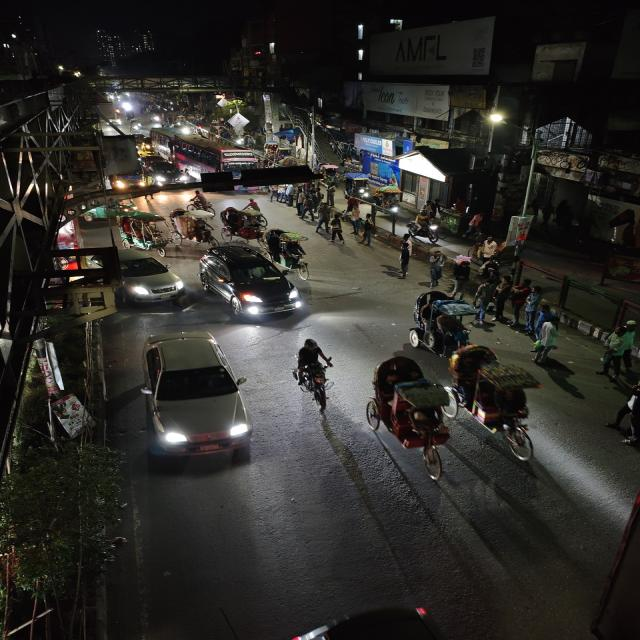bicycle: (185, 189, 216, 215)
bus: (172, 134, 258, 178)
car: (135, 328, 254, 467), (196, 243, 307, 323), (110, 248, 186, 310), (143, 156, 190, 190)
cng: (112, 196, 140, 216)
motorcycle: (287, 336, 338, 414)
pedestrian: (605, 381, 640, 451), (529, 320, 566, 364), (510, 282, 544, 328), (601, 328, 629, 378), (449, 258, 476, 300), (474, 241, 502, 281), (472, 278, 496, 324), (492, 278, 516, 324), (469, 235, 502, 265), (598, 347, 625, 381), (554, 197, 577, 236), (395, 238, 416, 278), (618, 331, 638, 370), (426, 253, 446, 288), (478, 258, 502, 286), (360, 214, 379, 247), (328, 214, 347, 244), (347, 207, 364, 237)
pickup_van: (109, 168, 151, 194)
rickshaw: (449, 343, 542, 451), (368, 373, 452, 480), (411, 289, 474, 359), (117, 212, 172, 254), (219, 204, 264, 243), (171, 208, 216, 246), (114, 196, 140, 215)
